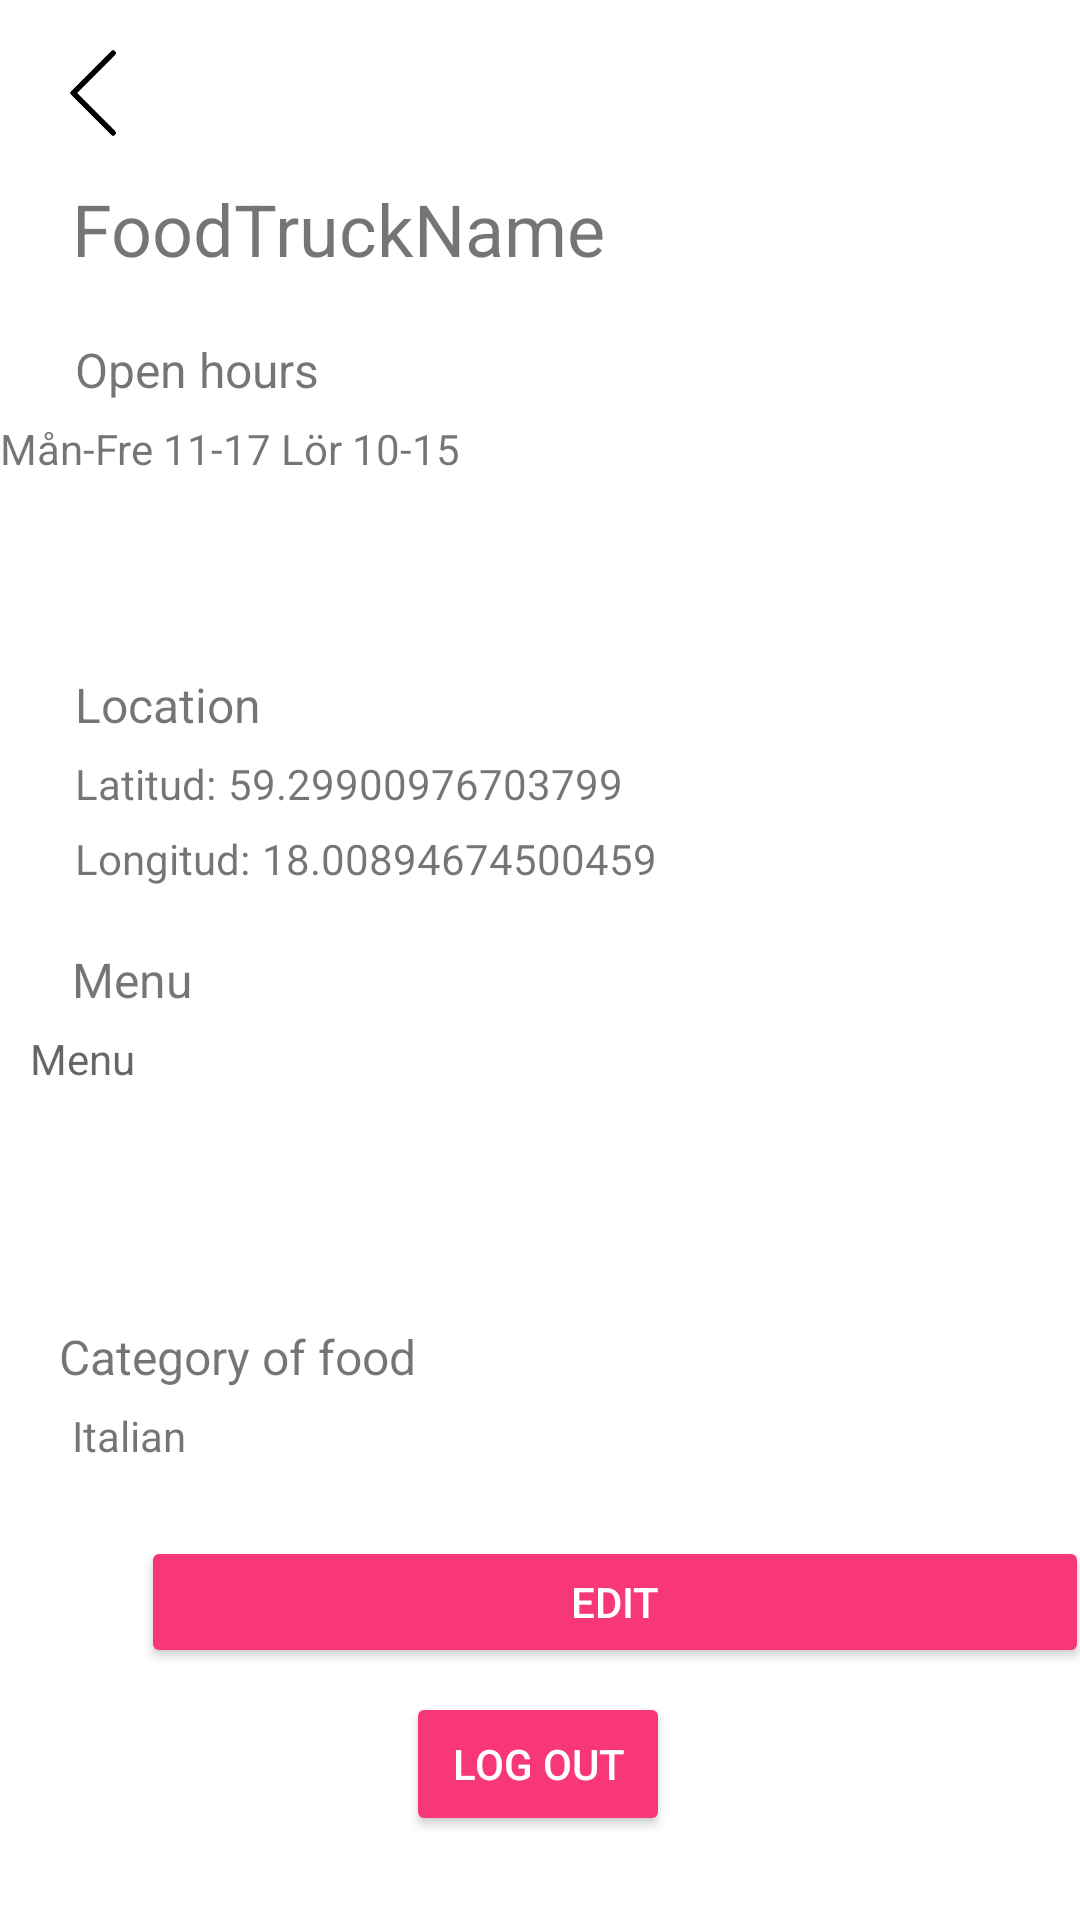

Icons on this 1080w x 1920h Android screen, each with its box as (x1, y1, x2, y2):
back arrow: (70, 50, 116, 136)
